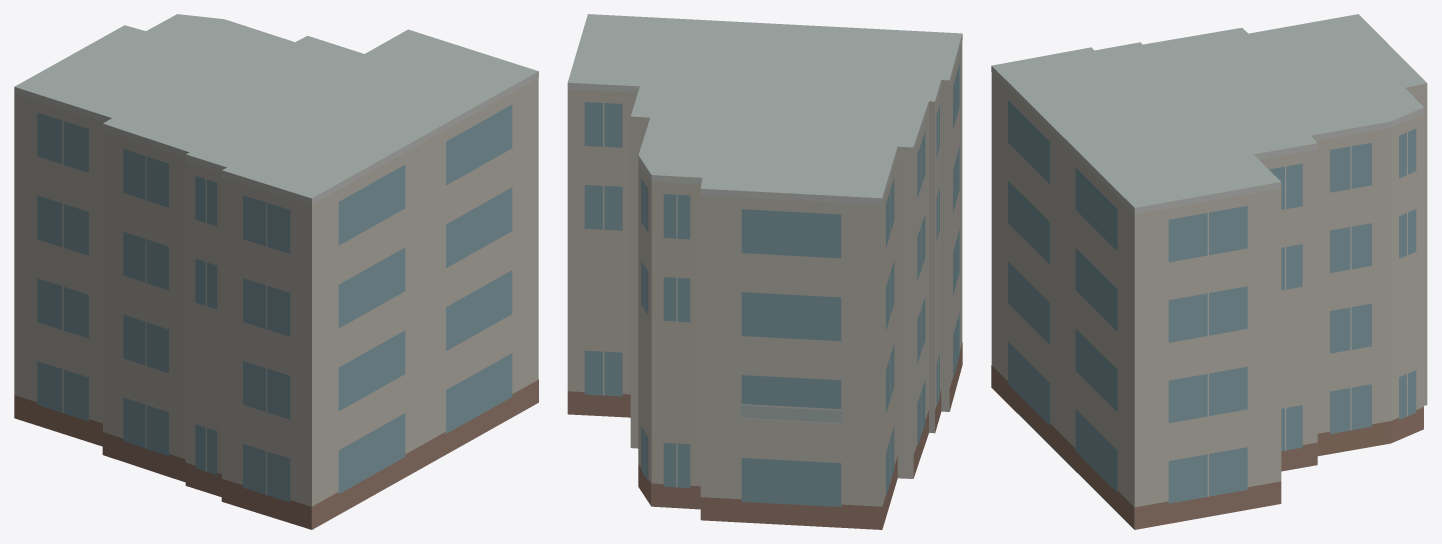
File: survey-upis-32970078.glb
3 renders of one model, left to right at view 1: azimuth 30°, elevation 25°; view 2: azimuth 150°, elevation 25°; view 3: azimuth 270°, elevation 25°, orthographic. The views are drawn at different scales.
Visible parts, largest first — view 1: survey-upis-32970078.tmp; view 2: survey-upis-32970078.tmp; view 3: survey-upis-32970078.tmp.
Part boxes in pixels (<box>): survey-upis-32970078.tmp: <box>14,14,538,529</box>; survey-upis-32970078.tmp: <box>567,14,962,529</box>; survey-upis-32970078.tmp: <box>991,14,1427,529</box>.
Bounding box in the file's own units: 15.78 × 12.2 × 14.99.
